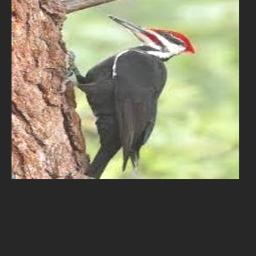Woodpecker: (50, 15, 196, 178)
